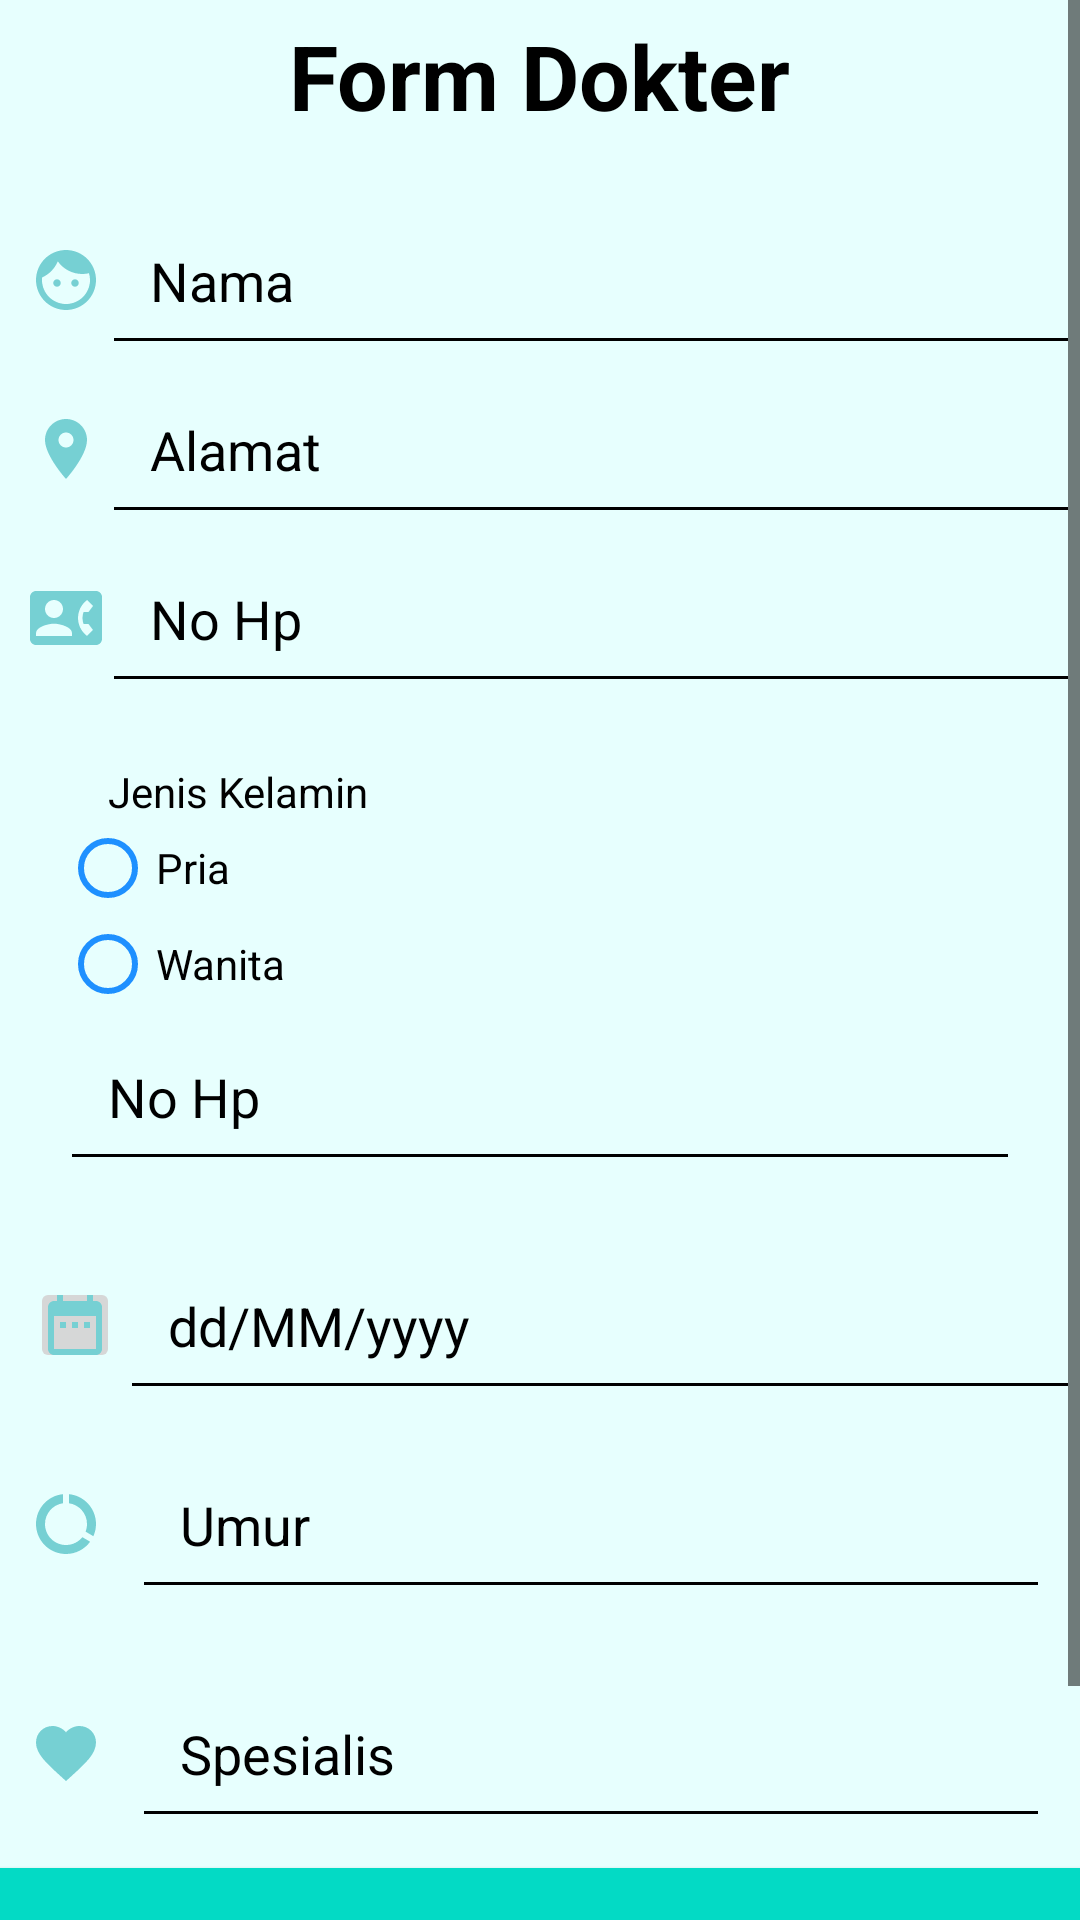

Named icons in this screenshot (1080px x 1920px) and their centers, point (x, y):
face: point (66, 280)
favorite: point (66, 1753)
tgllahir: point (75, 1325)
